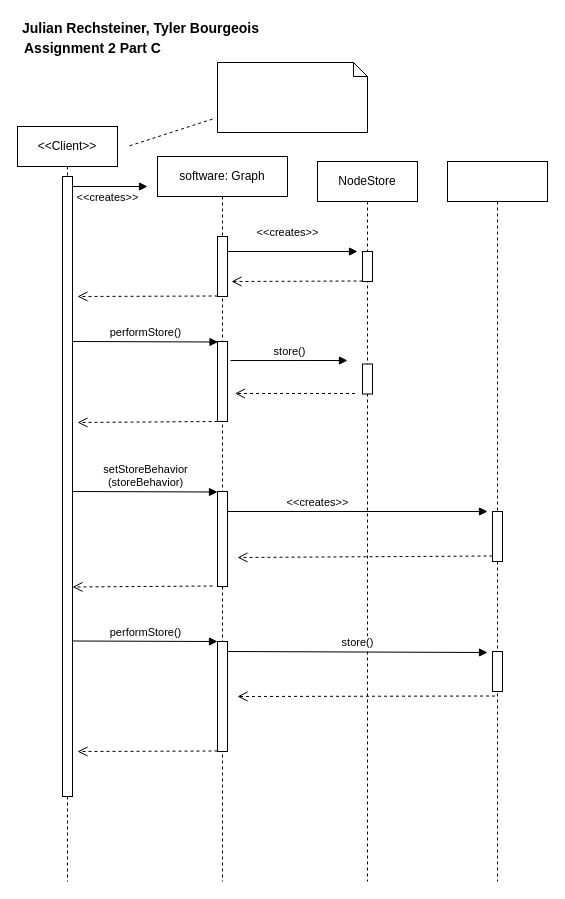
Some shapes in this 565 by 899 pixel diagram are drawn without their labels. Here are the shapes that lost their labels. From the top down, the centre of each, then its label:
At (x=292, y=97): "Assume we ignore the switch and we chose the Graph as our databaseSoftware.".
At (x=497, y=521): "DocumentStore".
